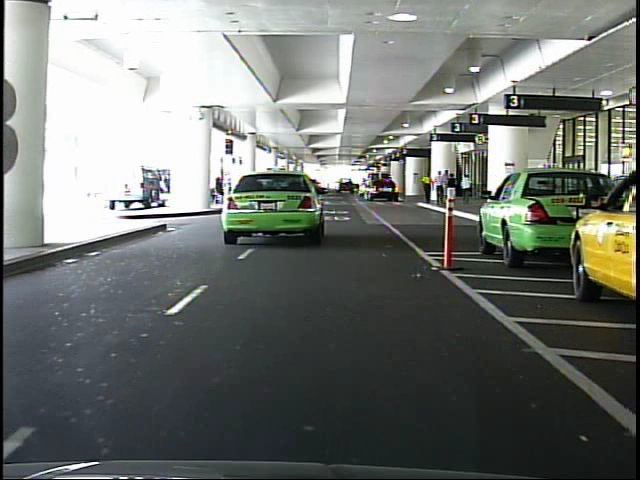person: (459, 170, 476, 211), (419, 169, 435, 210), (445, 172, 459, 213), (435, 167, 447, 209)
